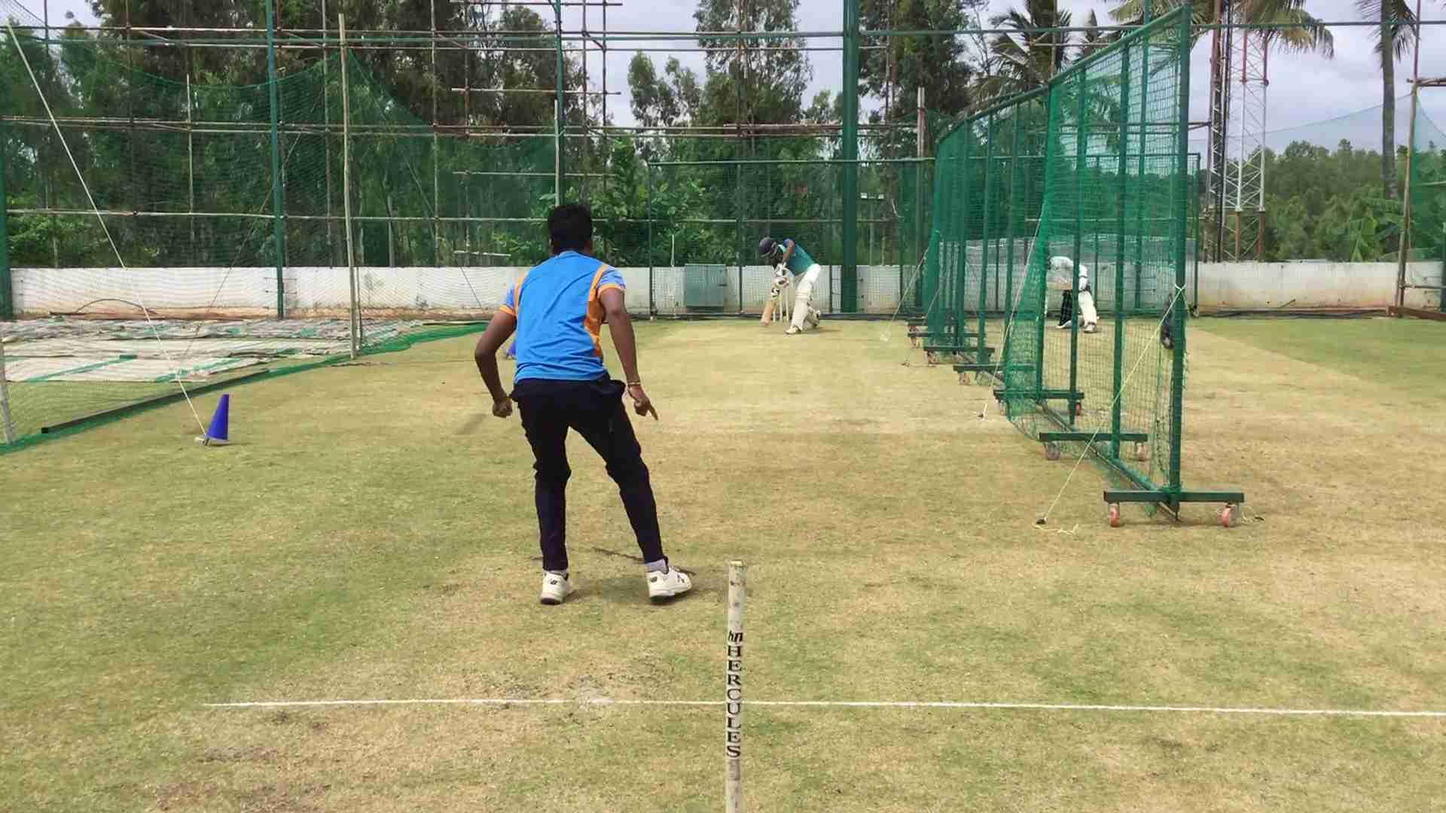batsman: (750, 230, 827, 334)
